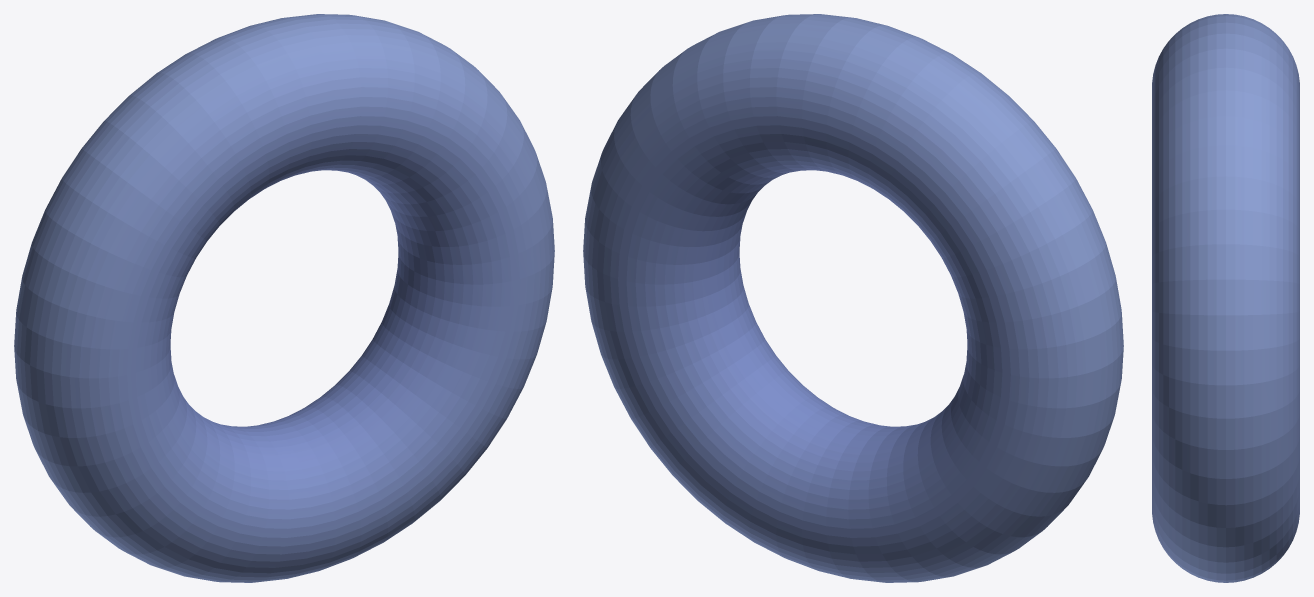
The picture shows the model from 3 angles, left to right: view 1: azimuth 30°, elevation 25°; view 2: azimuth 150°, elevation 25°; view 3: azimuth 270°, elevation 25°; orthographic projection. The views are drawn at different scales.
Visible parts, largest first — view 1: world; view 2: world; view 3: world.
Part boxes in pixels (x1,y1,x2,y2): world: (14,14,554,582); world: (583,14,1123,582); world: (1152,14,1299,582).
Size of the model in its own units: 18.93 by 18.9 by 4.92.
